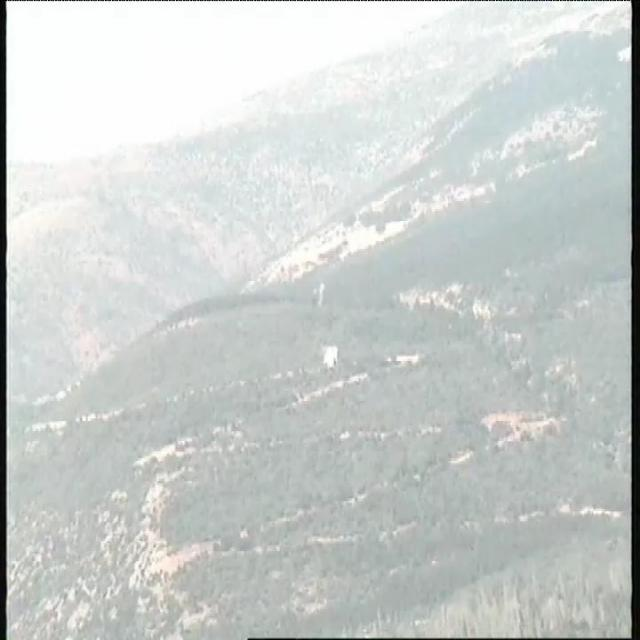smoke: (318, 346, 341, 372)
